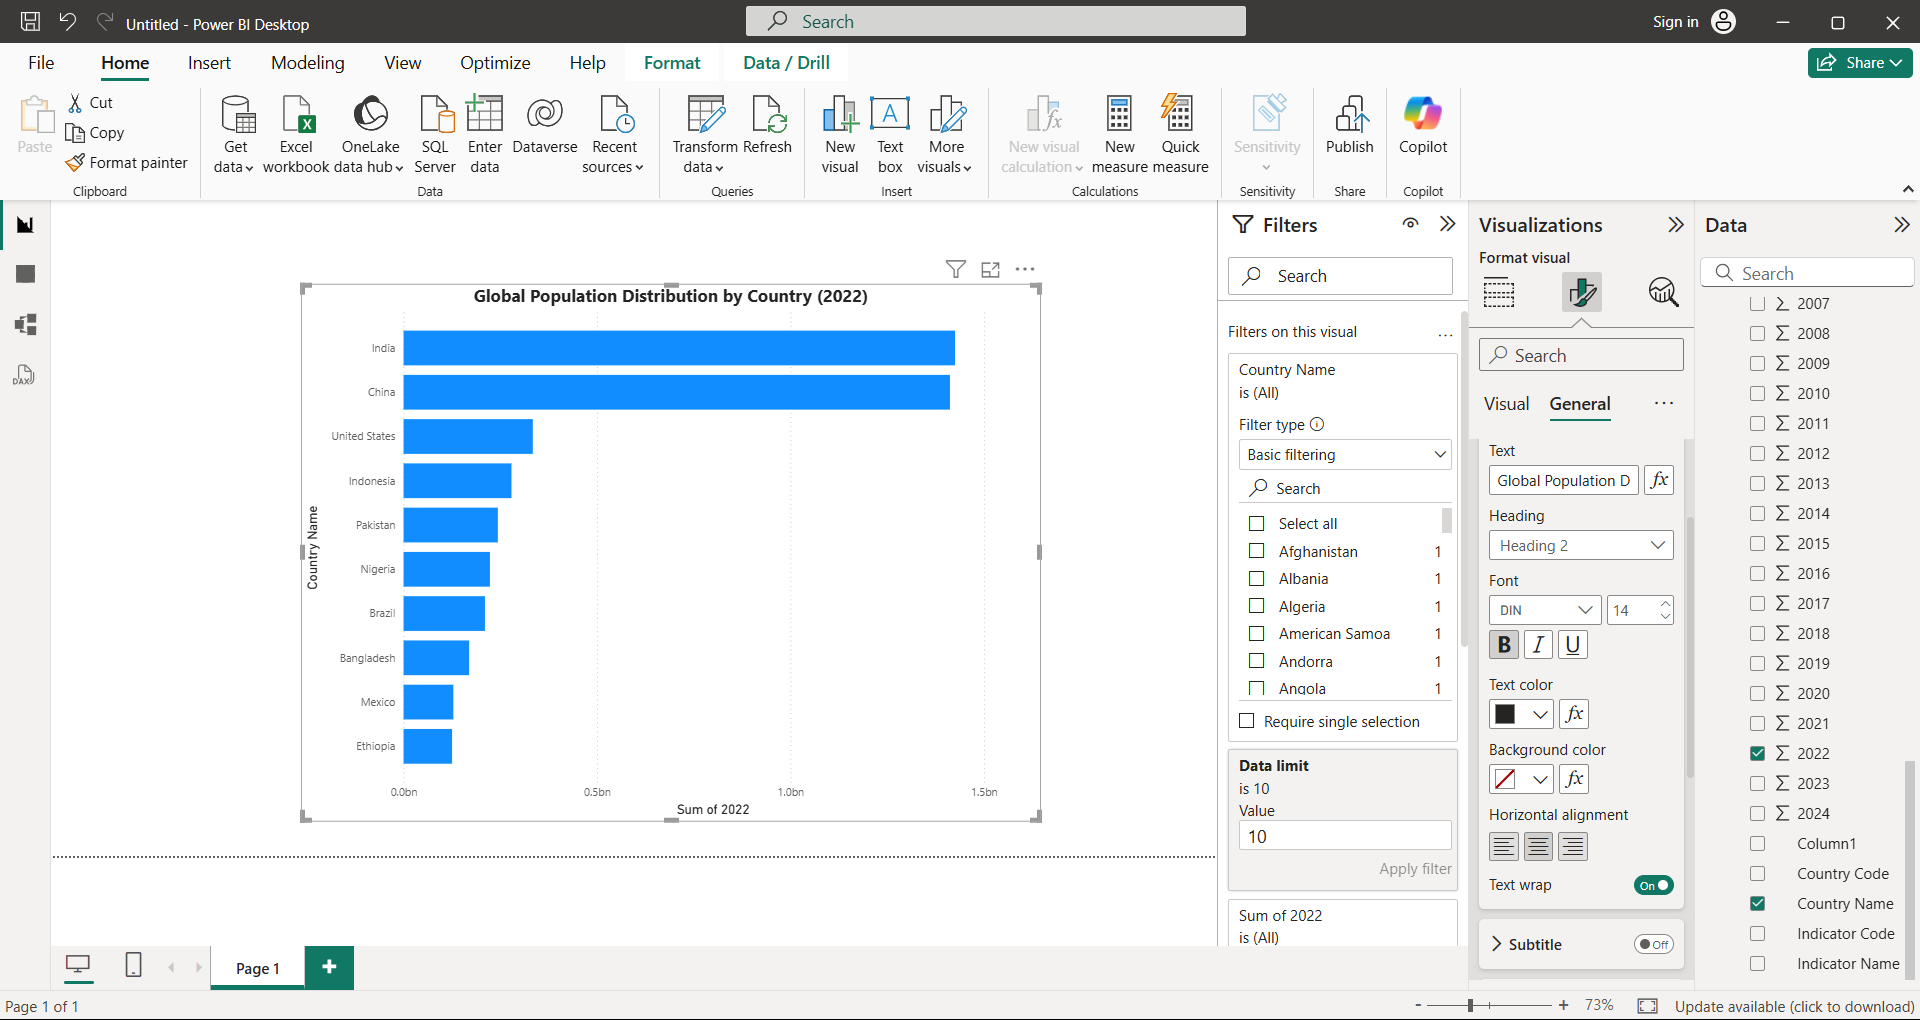

What the dashboard file says about the page in this screenshot:
{"tool":"powerbi","page":{"name":"Page 1","canvas":[1280,720],"ordinal":0},"visuals":[{"type":"clusteredBarChart","title":"Global Population Distribution by Country (2022)","fields":{"Category":["population-dataset csv.Country Name"],"Y":["Sum(population-dataset csv.2022)"]},"box":[274.4,91.9,812.4,590.1],"z":0}]}

Visuals, with their boxes on the page's 1280x720 design canvas (x1, y1, x2, y2). These are canvas units, not pixel positions in the 1920x1020 screenshot, which may show the page scaled, cropped or inside an application window:
"Global Population Distribution by Country (2022)" clusteredBarChart: box=[274, 92, 1087, 682]
